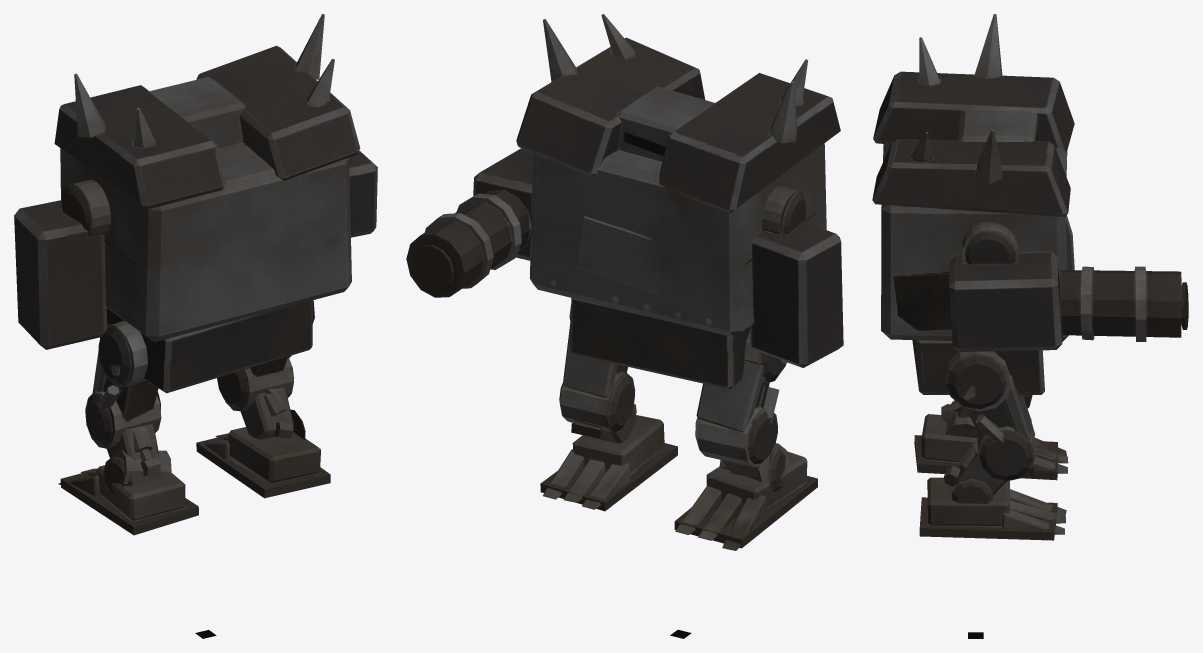
File: chs_thug_wreck.fbx
3 renders of one model, left to right at view 1: azimuth 30°, elevation 25°; view 2: azimuth 150°, elevation 25°; view 3: azimuth 270°, elevation 25°, orthographic. The views are drawn at different scales.
Visible parts, largest first — view 1: torso_bar, base_bar, thighL_bar, footR_bar, footL_bar, shinL_bar, thighR_bar, shinR_bar; view 2: torso_bar, base_bar, thighL_bar, footR_bar, footL_bar, thighR_bar, shinL_bar, shinR_bar; view 3: torso_bar, thighR_bar, footR_bar, footL_bar, base_bar, shinR_bar, shinL_bar.
Part boxes in pixels (x1=…): torso_bar: x1=14, y1=14, x2=377, y2=349; base_bar: x1=100, y1=300, x2=312, y2=393; thighL_bar: x1=85, y1=321, x2=161, y2=448; footR_bar: x1=196, y1=427, x2=330, y2=498; footL_bar: x1=58, y1=465, x2=198, y2=535; shinL_bar: x1=103, y1=424, x2=171, y2=493; thighR_bar: x1=217, y1=300, x2=314, y2=411; shinR_bar: x1=240, y1=387, x2=305, y2=439; torso_bar: x1=406, y1=14, x2=843, y2=367; base_bar: x1=570, y1=298, x2=750, y2=389; thighL_bar: x1=695, y1=330, x2=787, y2=467; footR_bar: x1=540, y1=415, x2=677, y2=511; footL_bar: x1=674, y1=451, x2=817, y2=550; thighR_bar: x1=559, y1=306, x2=635, y2=432; shinL_bar: x1=719, y1=443, x2=789, y2=492; shinR_bar: x1=571, y1=404, x2=637, y2=443; torso_bar: x1=872, y1=14, x2=1188, y2=351; thighR_bar: x1=945, y1=351, x2=1035, y2=481; footR_bar: x1=919, y1=477, x2=1066, y2=540; footL_bar: x1=914, y1=414, x2=1068, y2=480; base_bar: x1=912, y1=340, x2=1044, y2=394; shinR_bar: x1=944, y1=442, x2=1033, y2=503; shinL_bar: x1=941, y1=400, x2=977, y2=437.
Bounding box in the file's own units: 480 × 806 × 409.
2 materials, 2 textured.
